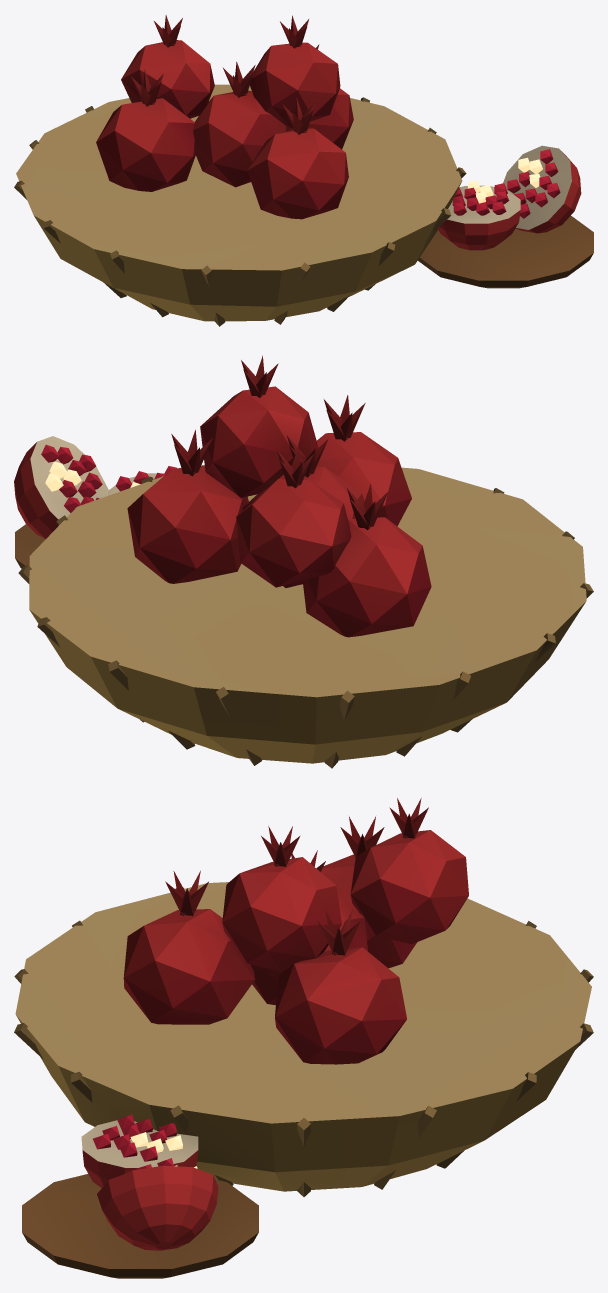
The picture shows the model from 3 angles, top to bottom: view 1: azimuth 30°, elevation 25°; view 2: azimuth 150°, elevation 25°; view 3: azimuth 270°, elevation 25°; orthographic projection. The views are drawn at different scales.
Visible parts, largest first — view 1: base; view 2: base; view 3: base.
Boxes of the visible parts, x1=… form: base: x1=14, y1=15, x2=593, y2=326; base: x1=14, y1=355, x2=593, y2=768; base: x1=14, y1=798, x2=593, y2=1278.
Size of the model in its own units: 0.6159 by 0.3005 by 0.4963.
